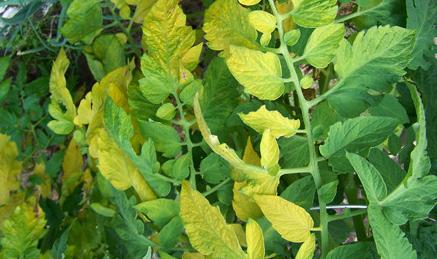Tomato leaf yellow virus: (89, 92, 157, 205), (135, 0, 204, 99), (336, 10, 418, 86), (179, 188, 259, 259), (220, 29, 286, 109), (253, 184, 313, 252)
